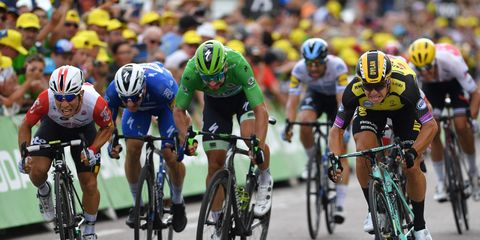helmet: (357, 50, 392, 104), (49, 65, 84, 117), (193, 40, 227, 91), (114, 64, 148, 112), (409, 38, 437, 80), (301, 38, 329, 79)
